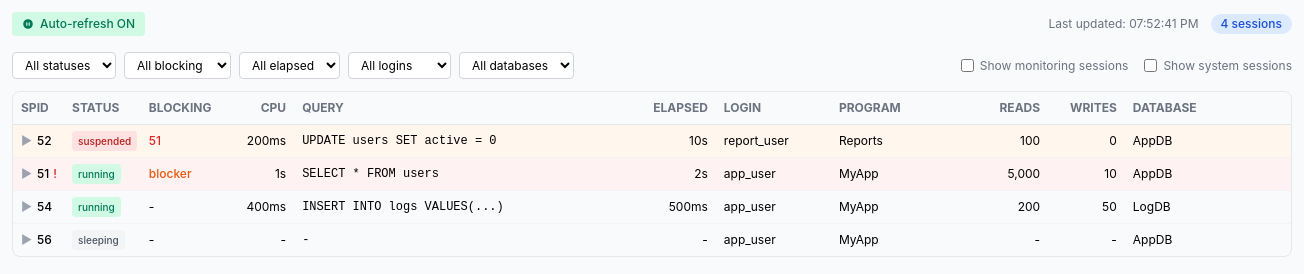
Scenario: CurrentActivity › filters by login
The width and height of the screenshot is (1304, 274).
Select "report_user" in the dropdown with test id "filter-login" at [400, 66], box top-left (348, 52), bottom-right (451, 79)
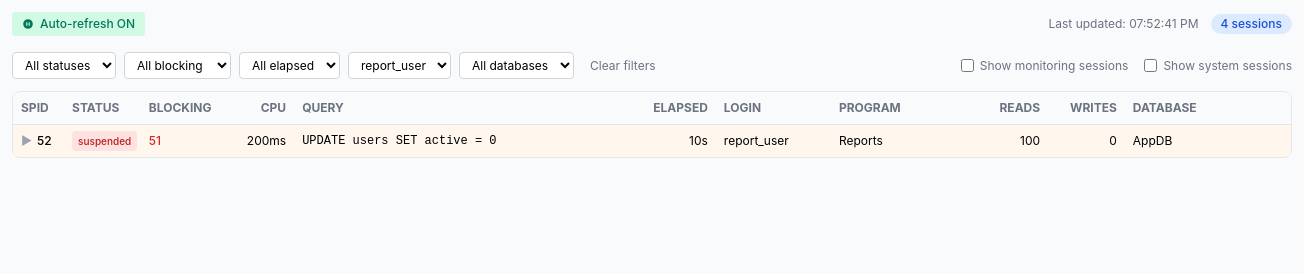
expect the row with test id "session-row-52" is shown: met, box top-left (13, 124), bottom-right (1291, 157)
expect the row with test id "session-row-51" is gone: met
